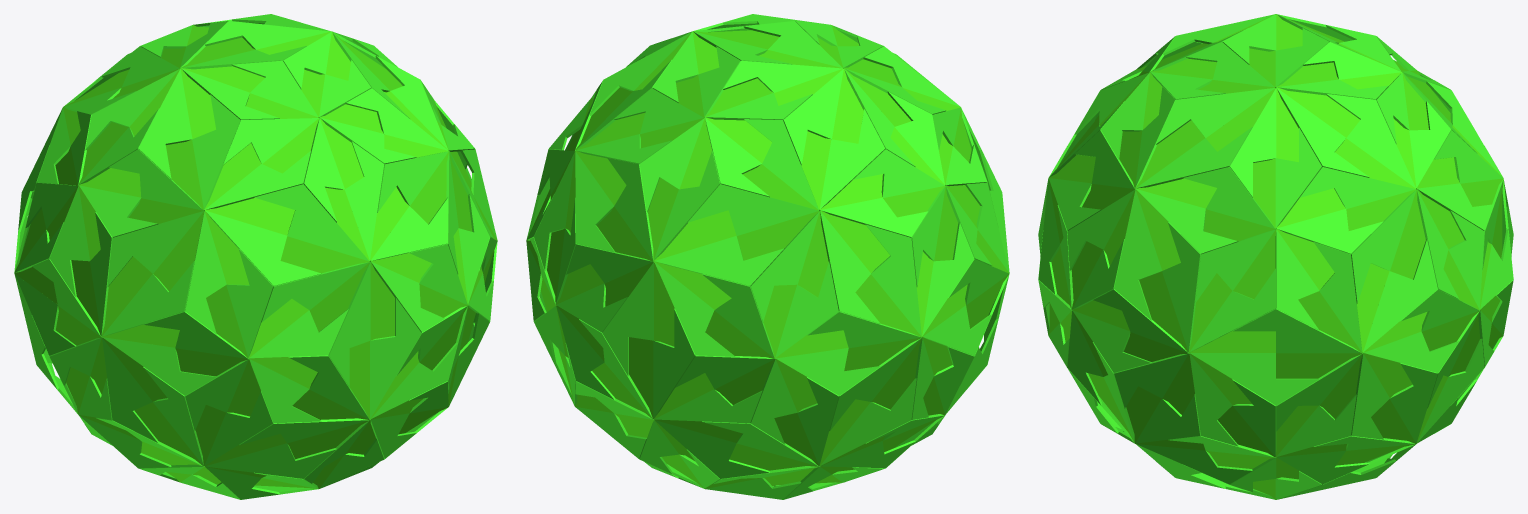
Rendered from SmallHexagonalHexecontahedronSF1.glb.
3 renders of one model, left to right at view 1: azimuth 30°, elevation 25°; view 2: azimuth 150°, elevation 25°; view 3: azimuth 270°, elevation 25°, orthographic.
Visible parts, largest first — view 1: root; view 2: root; view 3: root.
Part boxes in pixels (x1=…): root: x1=14, y1=14, x2=497, y2=499; root: x1=526, y1=14, x2=1009, y2=499; root: x1=1038, y1=14, x2=1513, y2=499.
Bounding box in the file's own units: 9.6 × 9.6 × 9.6.
